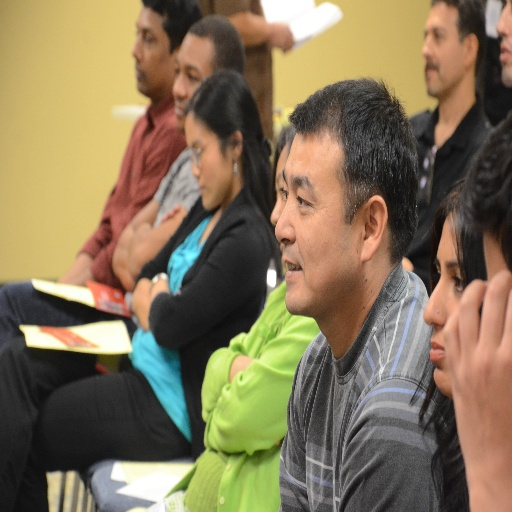hand: (440, 270, 511, 511), (270, 20, 295, 50), (159, 204, 185, 222)
